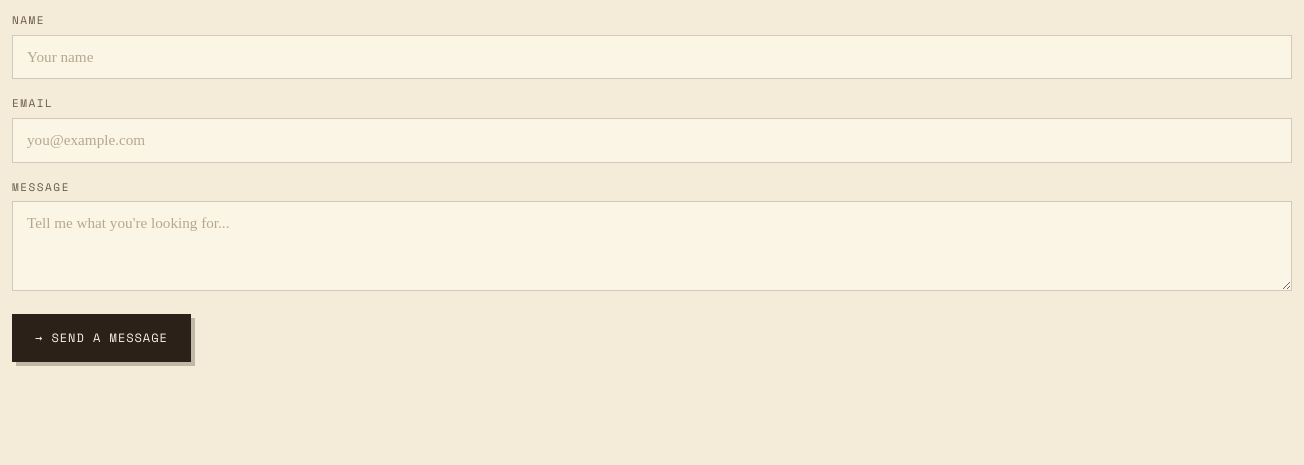
Test: InterestForm › error handling › dismisses error when dismiss button is clicked
The image size is (1304, 465).
Type "Jane Doe" into the field labelled "Name" at (652, 57), box [12,34,1292,79]
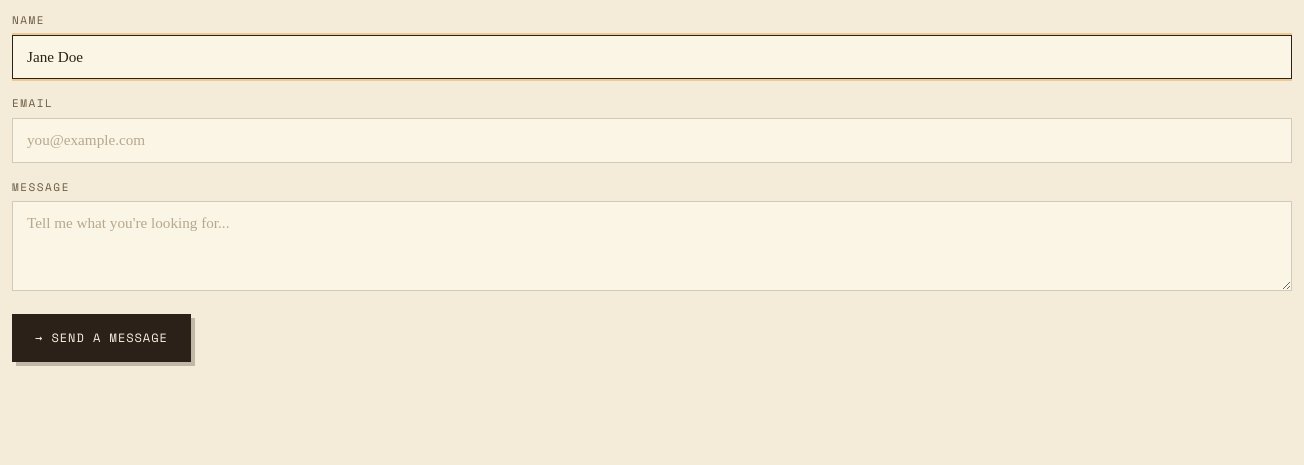
Type "jane@example.com" into the field labelled "Email" at (652, 140), box [12,118,1292,163]
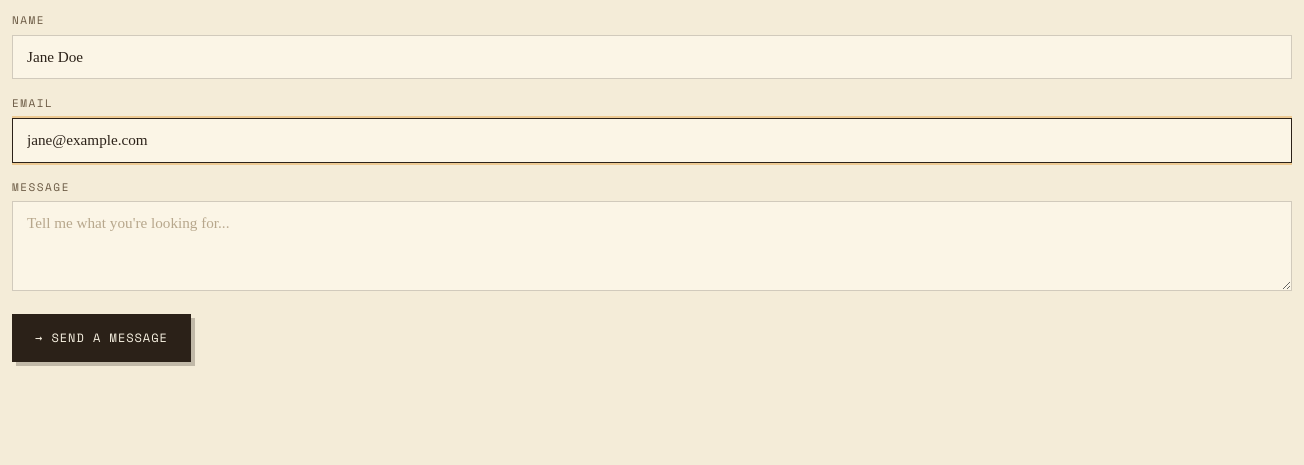
Type "Hello there!" into the text box labelled "Message" at (652, 246), box [12,201,1292,291]
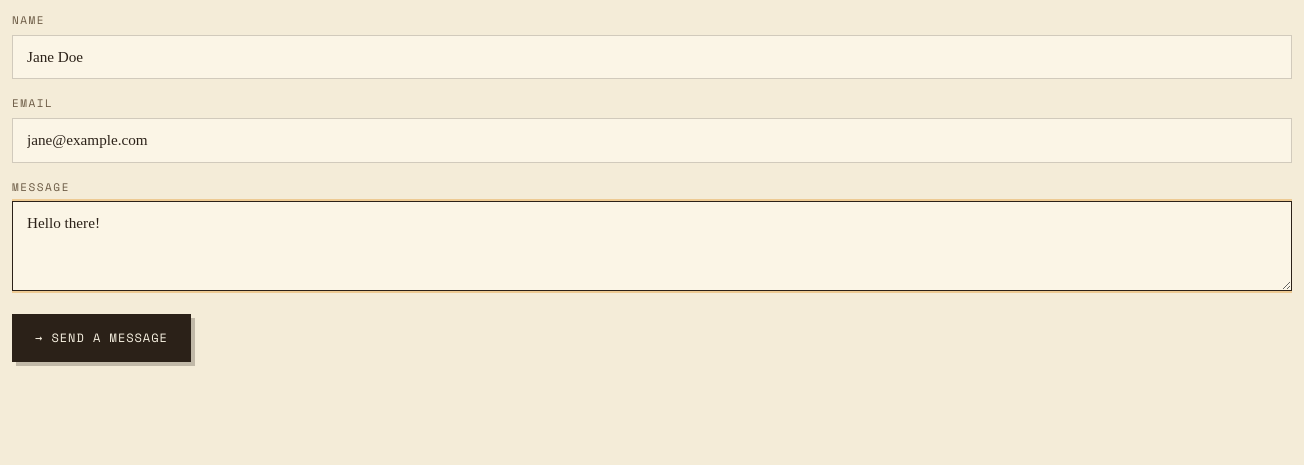
Click the button "→ SEND A MESSAGE" at (101, 338), box [12,314,191,362]
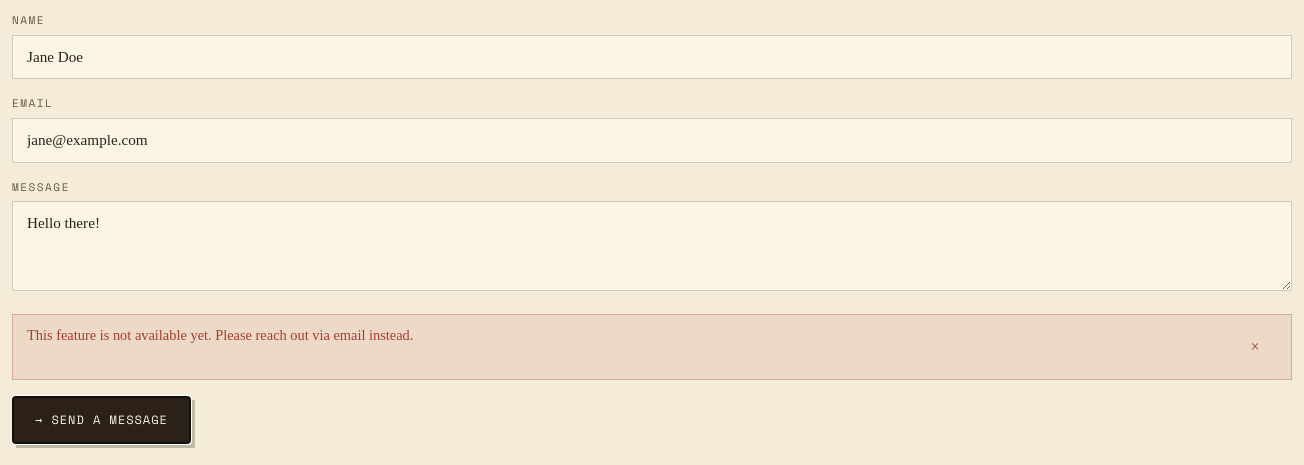
expect the message "This feature is not available yet. Please reach out via email instead." is shown: met, box [27,325,413,347]
Click the button named "Dismiss error" at (1255, 347), box [1233,325,1277,369]
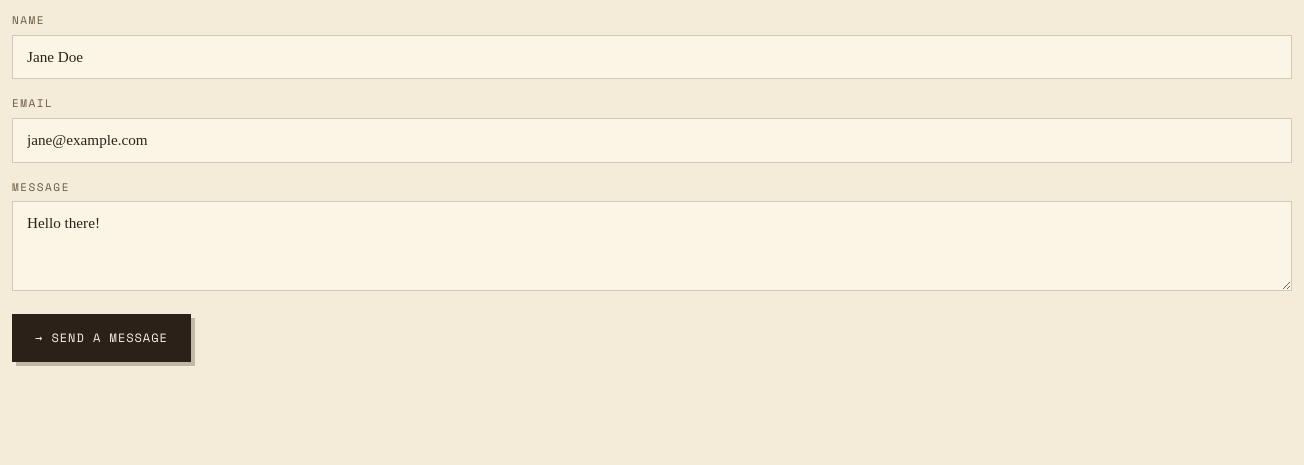
expect the message "This feature is not available yet. Please reach out via email instead." is gone: met
